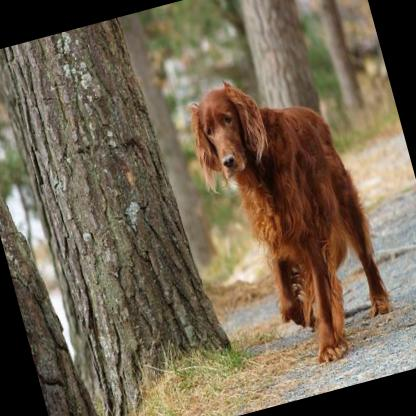Irish_setter: (179, 52, 403, 385)
